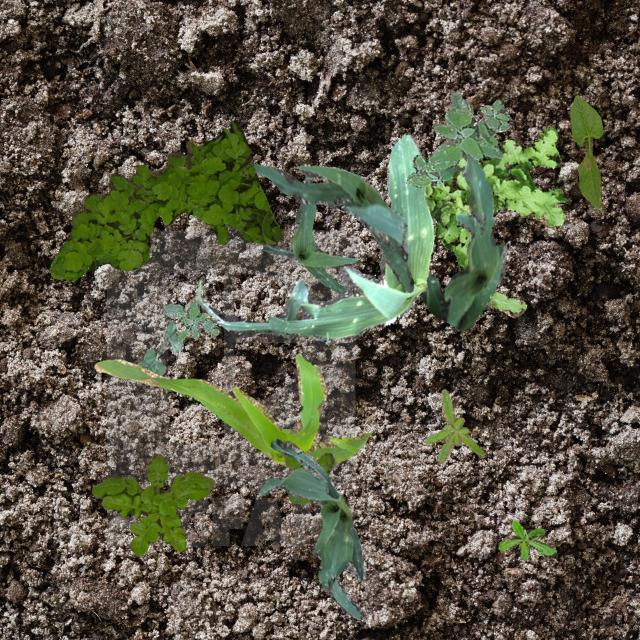crop: (192, 134, 432, 342), (93, 352, 370, 466), (252, 162, 412, 292), (256, 438, 364, 618), (418, 150, 506, 330), (262, 174, 356, 294), (568, 94, 602, 208), (138, 320, 182, 374)
weed: (48, 120, 280, 280), (424, 128, 566, 316), (90, 452, 214, 554), (406, 92, 508, 186), (424, 388, 484, 462), (284, 440, 334, 502), (496, 518, 556, 560), (162, 298, 218, 342)
